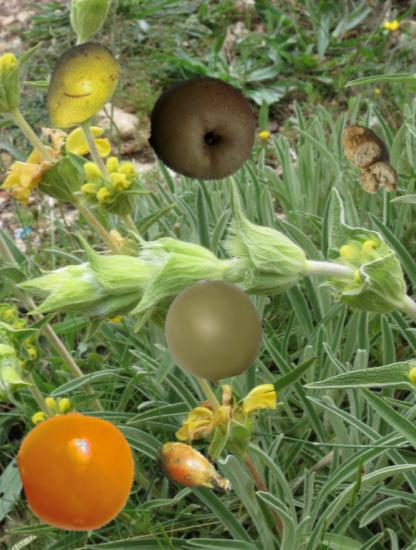Cactus: (152, 430, 235, 513)
Ginger: (328, 120, 410, 202)
Grape: (163, 279, 264, 380)
Pear: (146, 75, 259, 188), (28, 38, 129, 139)
Physalis: (14, 408, 141, 535)
